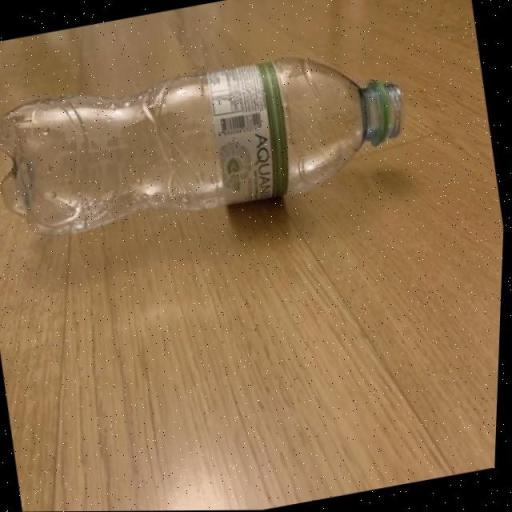plastic: (0, 33, 423, 251)
